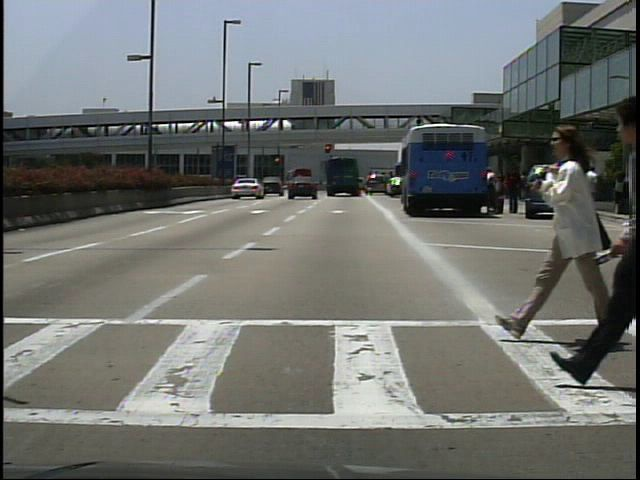person: (521, 116, 609, 350), (582, 168, 602, 218), (503, 165, 522, 215), (486, 162, 502, 215)
